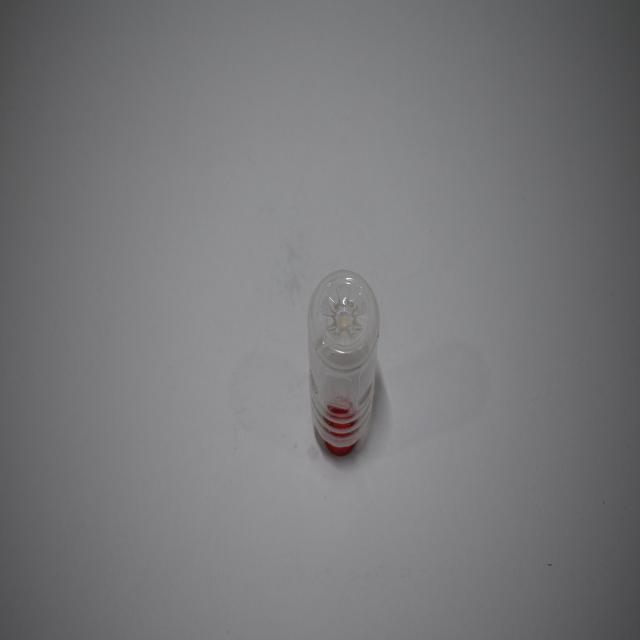empty: (308, 270, 379, 454)
